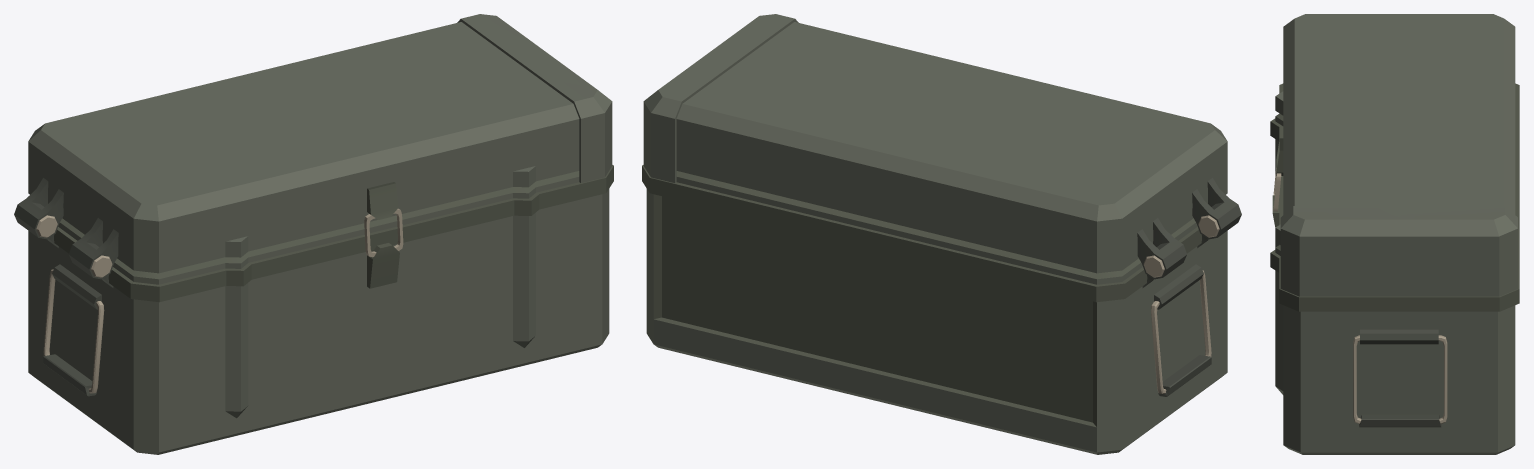
The model's file is Ammo_box_03.fbx.
3 renders of one model, left to right at view 1: azimuth 30°, elevation 25°; view 2: azimuth 150°, elevation 25°; view 3: azimuth 270°, elevation 25°, orthographic. The views are drawn at different scales.
Visible parts, largest first — view 1: Ammo_box_03; view 2: Ammo_box_03; view 3: Ammo_box_03.
Part boxes in pixels (x1,y1,x2,y2): Ammo_box_03: (14,14,613,454); Ammo_box_03: (642,14,1241,454); Ammo_box_03: (1270,14,1519,454).
Size of the model in its own units: 32.58 by 14.9 by 14.42.
